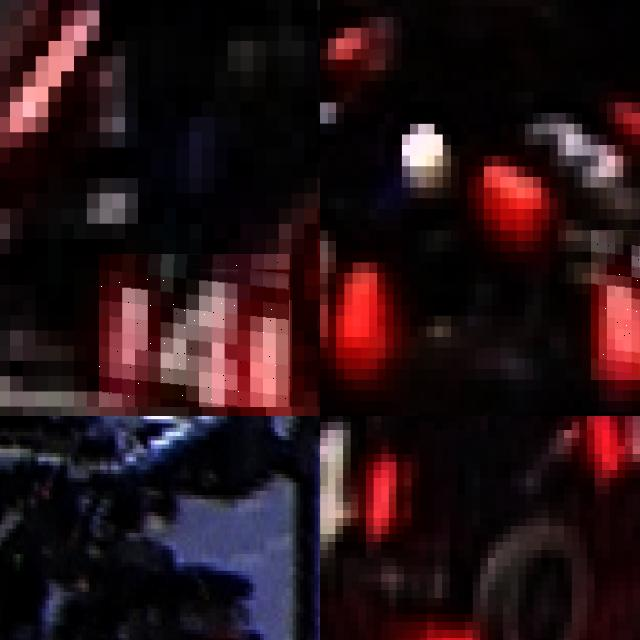R3: (320, 219, 385, 369), (590, 230, 640, 379)
R4: (100, 254, 292, 407), (320, 416, 426, 558), (567, 416, 640, 486)
